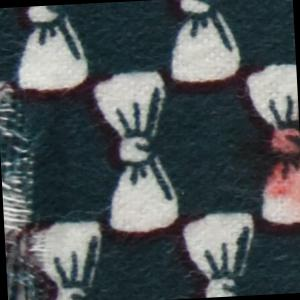Damage: (1, 72, 47, 300)
Stain: (228, 120, 300, 208)
